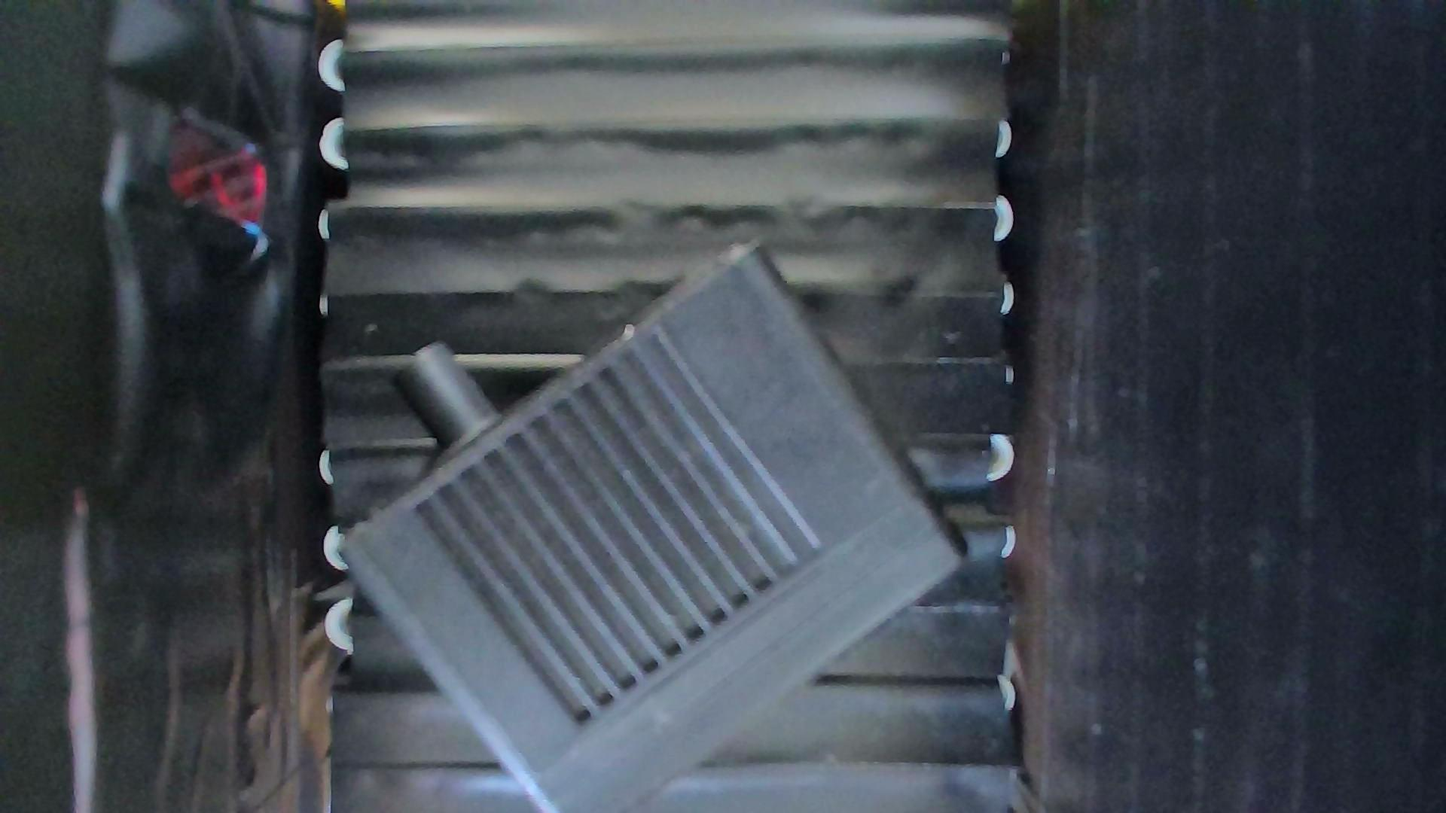motor: (337, 240, 969, 813)
